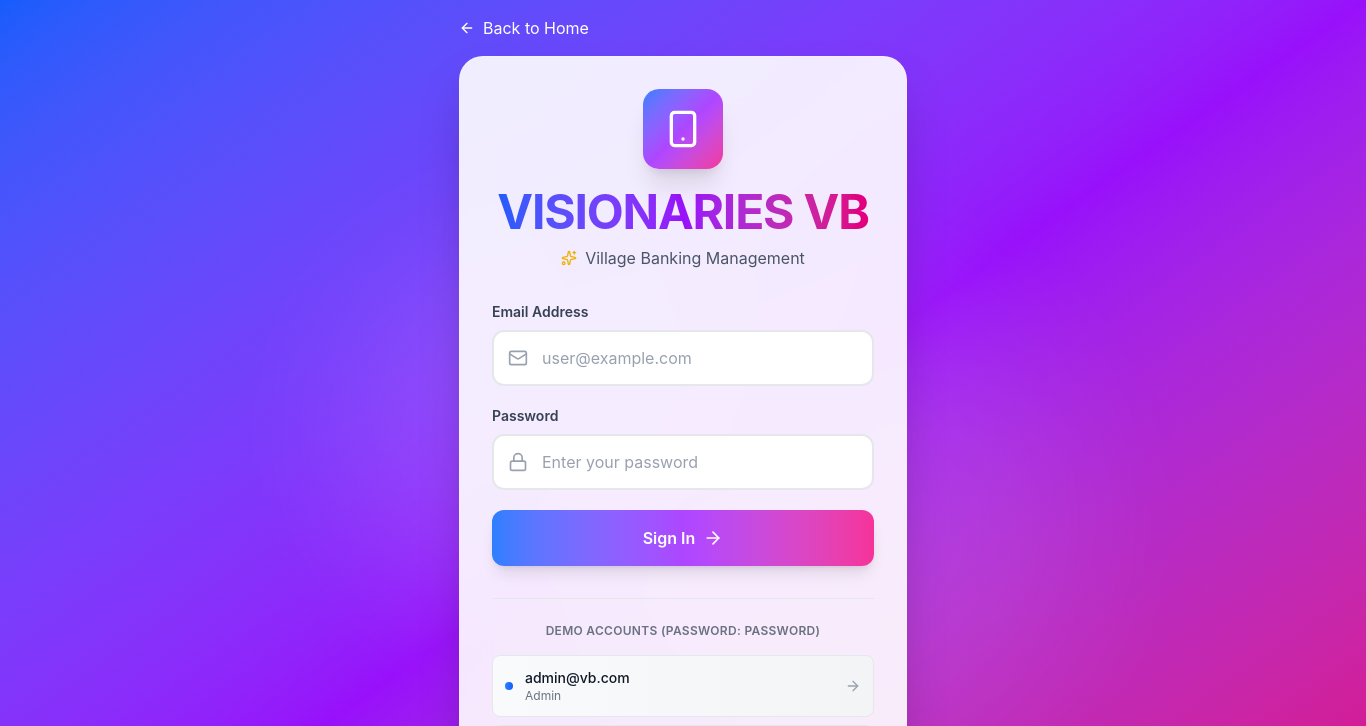
Test case: Login page › fills email and password when a demo account is clicked
What coordinates should you click on to do the following:
click the text "admin@vb.com"
I would click on:
 (577, 678)
Its box is x1=525 y1=668 x2=630 y2=688.
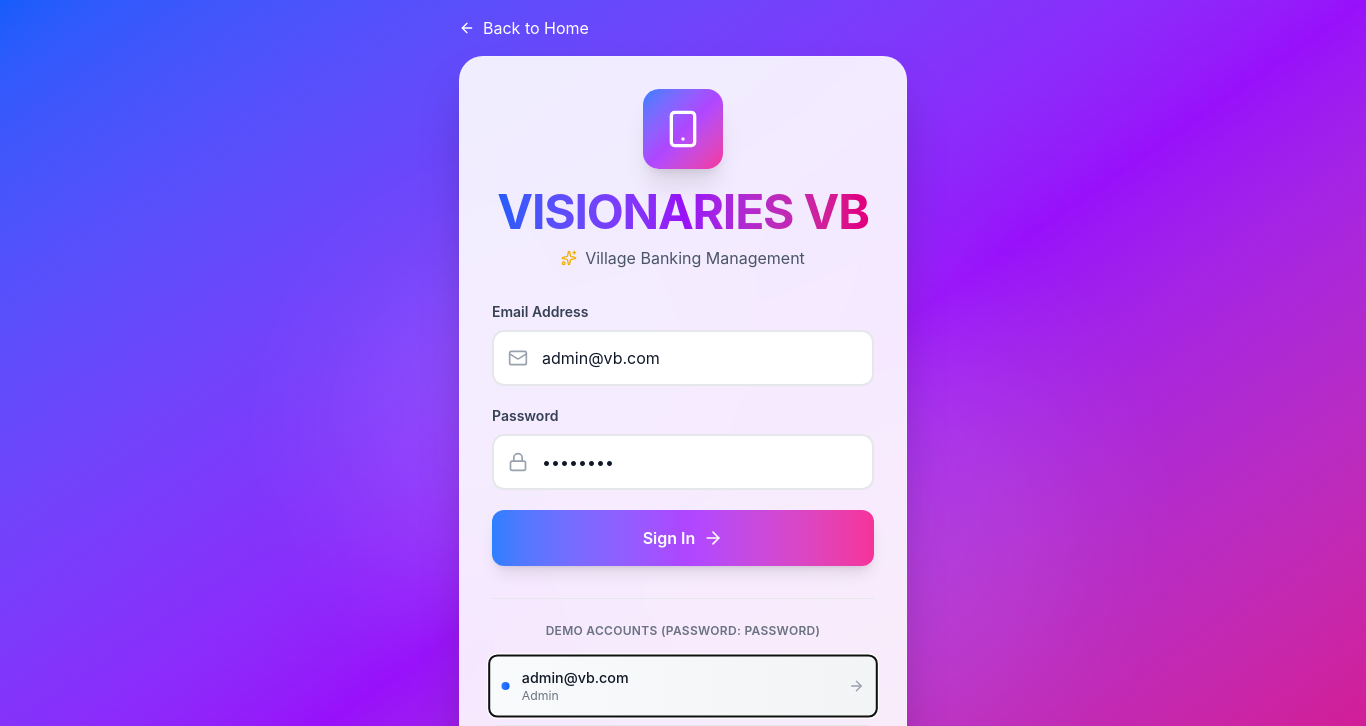
expect the field with placeholder "user@example.com" holds "admin@vb.com": met, box x1=492 y1=330 x2=874 y2=386
expect the password field with placeholder "Enter your password" holds "password": met, box x1=492 y1=434 x2=874 y2=490
